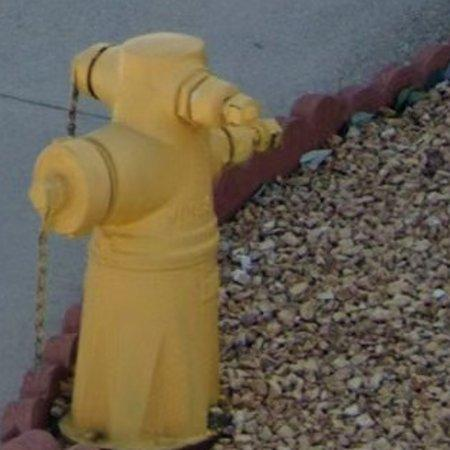a fire hydrant: (30, 32, 281, 450)
